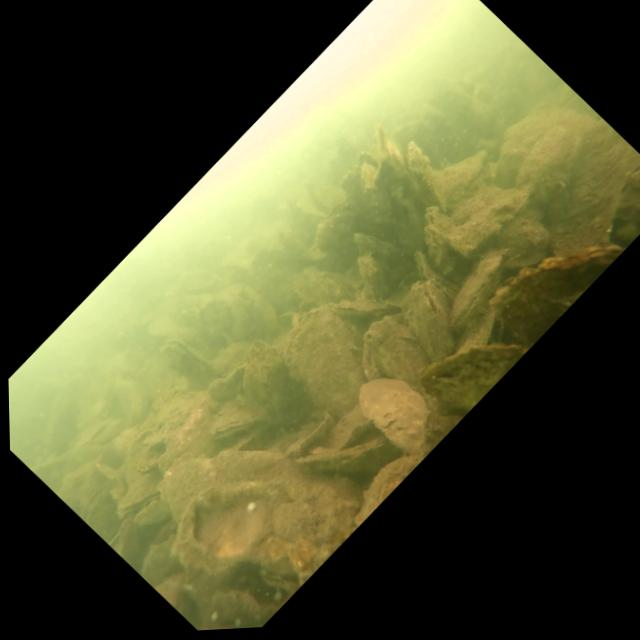Oyster-Closed: (460, 206, 624, 372), (411, 307, 529, 427), (221, 328, 334, 445), (385, 268, 481, 367), (294, 403, 390, 501), (432, 241, 524, 335), (401, 199, 485, 286), (584, 158, 640, 255), (333, 273, 404, 346), (348, 216, 416, 288), (318, 401, 377, 462), (341, 246, 399, 305), (301, 263, 356, 320), (404, 246, 447, 291)
Oyster-Indeterminate: (153, 424, 362, 633), (144, 398, 311, 570), (263, 286, 399, 427), (339, 295, 451, 411), (347, 355, 450, 461), (504, 116, 599, 213)
Oyster-Open: (364, 125, 469, 233), (151, 323, 226, 401), (430, 137, 503, 211), (448, 300, 519, 374), (112, 466, 173, 528), (203, 397, 259, 453), (73, 479, 120, 527)
